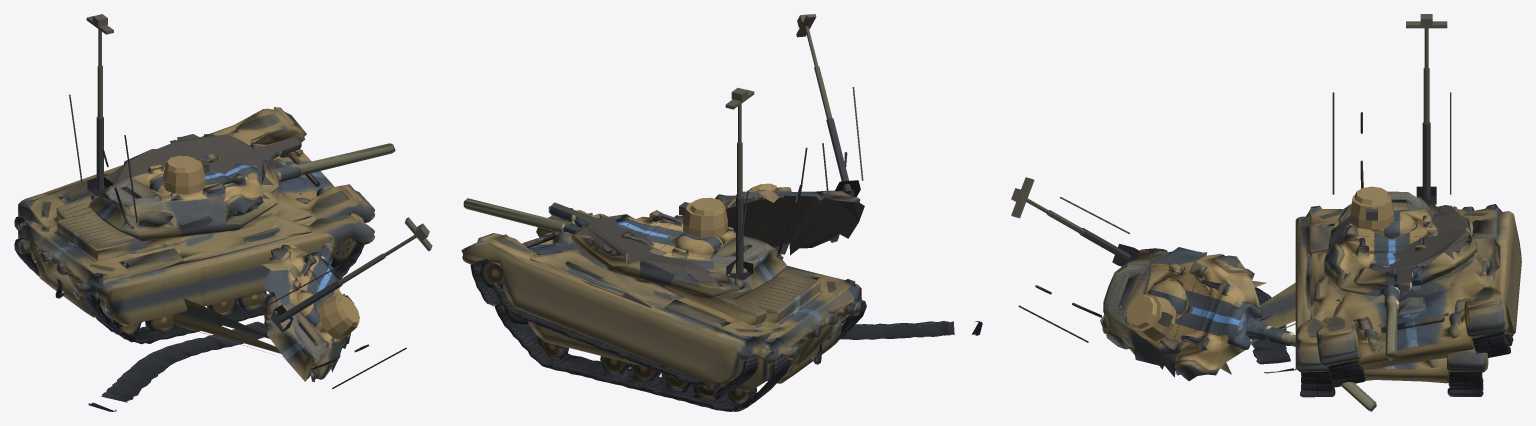
Rendered from officer_armour.glb.
3 renders of one model, left to right at view 1: azimuth 30°, elevation 25°; view 2: azimuth 150°, elevation 25°; view 3: azimuth 270°, elevation 25°, orthographic. The views are drawn at different scales.
Visible parts, largest first — view 1: hull_hull, WRECK_hull_hull, turret_hull, WRECK_turret_hull, turret_metal, WRECK_hull_rubber, WRECK_turret_metal, hull_rubber; view 2: WRECK_hull_hull, hull_hull, turret_hull, WRECK_turret_hull, hull_rubber, WRECK_hull_rubber, turret_metal, WRECK_turret_metal; view 3: WRECK_hull_hull, WRECK_turret_hull, hull_hull, turret_hull, turret_metal, WRECK_turret_metal, WRECK_hull_rubber, hull_rubber.
Boxes of the visible parts, box(x1,y1,x2,y2) form: hull_hull: box(14, 169, 374, 332); WRECK_hull_hull: box(14, 107, 374, 357); turret_hull: box(89, 153, 273, 229); WRECK_turret_hull: box(261, 242, 359, 382); turret_metal: box(69, 14, 395, 222); WRECK_hull_rubber: box(88, 321, 267, 411); WRECK_turret_metal: box(264, 217, 432, 388); hull_rubber: box(34, 272, 342, 344); WRECK_hull_hull: box(461, 202, 832, 395); hull_hull: box(488, 213, 866, 399); turret_hull: box(613, 197, 786, 289); WRECK_turret_hull: box(715, 183, 864, 255); hull_rubber: box(518, 333, 846, 411); WRECK_hull_rubber: box(491, 282, 982, 386); turret_metal: box(463, 87, 807, 283); WRECK_turret_metal: box(796, 14, 863, 196); WRECK_hull_hull: box(1252, 204, 1521, 387); WRECK_turret_hull: box(1100, 247, 1266, 380); hull_hull: box(1295, 204, 1488, 388); turret_hull: box(1324, 186, 1440, 282); turret_metal: box(1332, 14, 1451, 360); WRECK_turret_metal: box(1011, 177, 1376, 411); WRECK_hull_rubber: box(1199, 251, 1513, 373); hull_rubber: box(1300, 372, 1483, 397).
Bounding box in the file's own units: 8.58 × 5.96 × 9.05.
1 material, 1 textured.
